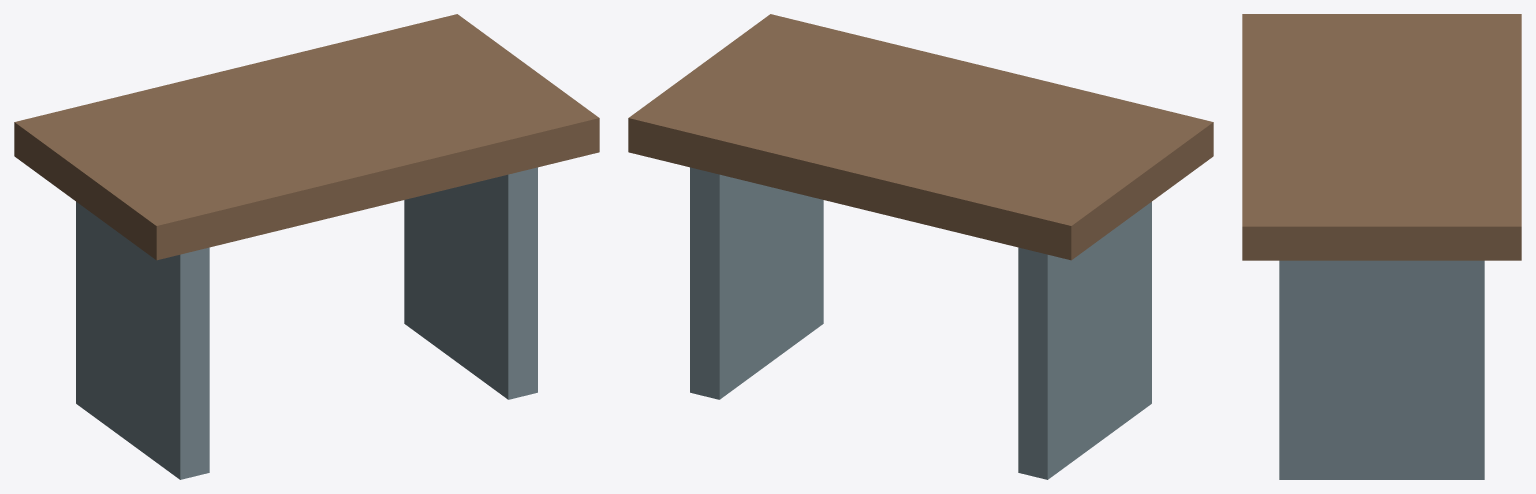
Rendered from Interior_Table.glb.
3 renders of one model, left to right at view 1: azimuth 30°, elevation 25°; view 2: azimuth 150°, elevation 25°; view 3: azimuth 270°, elevation 25°, orthographic.
Parts seen in each view (by area): view 1: Interior_Table; view 2: Interior_Table; view 3: Interior_Table.
Part boxes in pixels (box(x1,y1,x2,y2)): Interior_Table: box(14, 14, 599, 479); Interior_Table: box(628, 14, 1213, 479); Interior_Table: box(1242, 14, 1521, 479).
Bounding box in the file's own units: 1.35 × 0.81 × 0.75.
